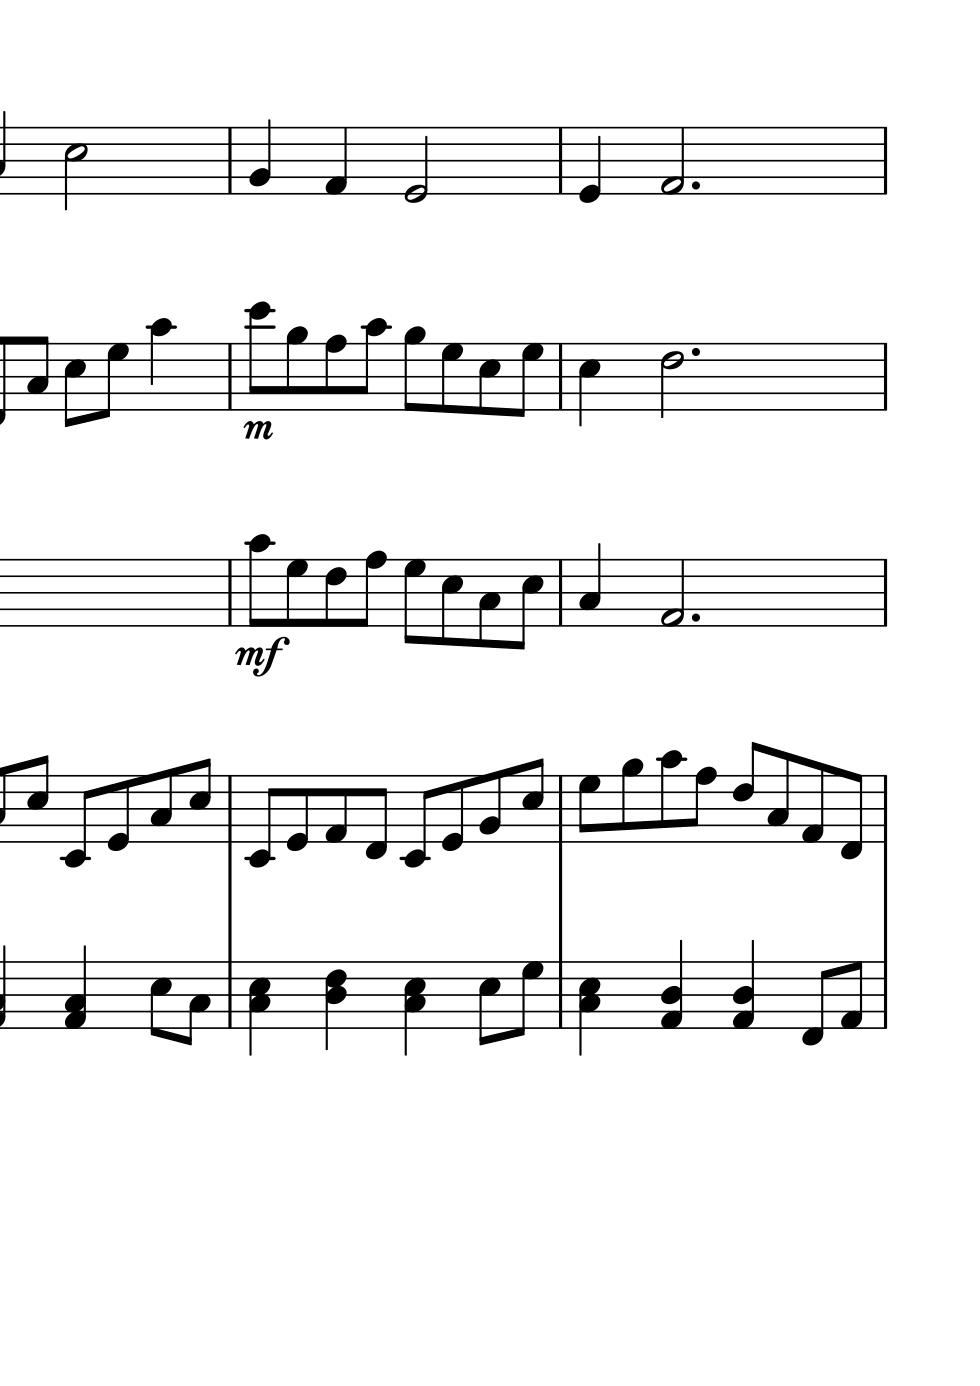2_0: (403, 124, 428, 204)
2_1: (659, 125, 687, 197), (658, 557, 686, 628)
2_5: (62, 125, 87, 211)
2_6: (658, 341, 684, 421)
4_0: (577, 125, 603, 204)
4_1: (323, 125, 350, 197)
4_10: (147, 315, 174, 414)
4_1_3: (64, 944, 88, 1031)
4_1_4: (658, 938, 684, 1031), (730, 937, 756, 1029)
4_2: (248, 117, 273, 197)
4_3: (576, 542, 602, 628)
4_3_5: (403, 960, 428, 1059), (578, 960, 603, 1059), (247, 959, 273, 1057)
4_4_6: (323, 960, 348, 1052)
4_5: (576, 341, 601, 429)
8_-1: (799, 959, 830, 1047), (838, 768, 864, 861), (363, 772, 389, 862)
8_-2: (59, 773, 97, 869), (244, 773, 280, 869), (399, 773, 435, 869)
8_0: (105, 772, 132, 853), (284, 773, 310, 853), (440, 773, 466, 852)
8_1: (799, 758, 825, 845), (323, 773, 349, 844), (839, 960, 863, 1031)
8_10: (357, 317, 390, 413), (246, 533, 274, 629), (657, 749, 684, 844)
8_12: (245, 300, 274, 413)
8_2: (477, 768, 503, 844)
8_3: (180, 959, 212, 1048), (765, 751, 792, 845), (475, 557, 501, 650), (148, 767, 174, 843), (25, 334, 49, 413)
8_5: (514, 557, 544, 652), (438, 557, 463, 648), (519, 757, 545, 844), (187, 757, 212, 845), (25, 754, 50, 845), (62, 340, 85, 429), (476, 959, 500, 1047), (476, 341, 502, 417), (147, 959, 171, 1040)
8_6: (731, 740, 762, 844), (322, 557, 347, 629)
8_7: (97, 341, 129, 420), (512, 960, 543, 1040), (512, 341, 543, 418), (401, 558, 426, 645), (576, 773, 602, 844), (438, 341, 463, 414), (284, 557, 309, 629)
8_8: (355, 549, 387, 629), (687, 765, 717, 845), (322, 333, 347, 413)
8_9: (618, 758, 644, 844), (402, 326, 426, 414), (284, 326, 308, 413)
Single_barline: (218, 559, 239, 626), (875, 127, 894, 194), (221, 343, 239, 411), (875, 343, 893, 411), (552, 343, 570, 410), (222, 775, 240, 843), (221, 961, 239, 1027), (553, 775, 570, 843), (553, 127, 570, 194), (553, 559, 570, 626), (876, 559, 893, 625), (552, 961, 568, 1027), (876, 775, 892, 843), (222, 127, 238, 194), (878, 961, 892, 1029)
dot: (688, 177, 702, 194), (689, 344, 703, 359), (688, 610, 702, 625)
m: (240, 418, 274, 444)
mf: (232, 636, 287, 679)
